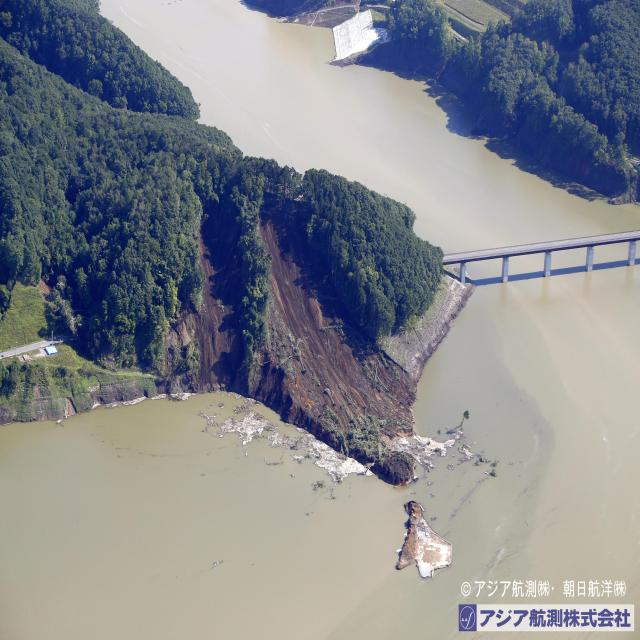Debris-flow: (166, 195, 421, 465), (400, 270, 474, 364)
